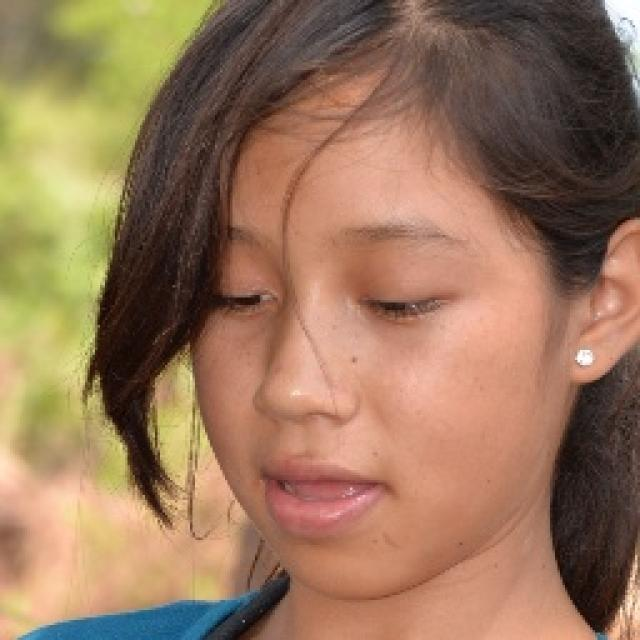earlobe: (564, 332, 604, 384)
eye: (361, 286, 452, 317), (210, 285, 277, 316)
nose: (252, 396, 351, 454)
wholeear: (565, 215, 640, 383)
